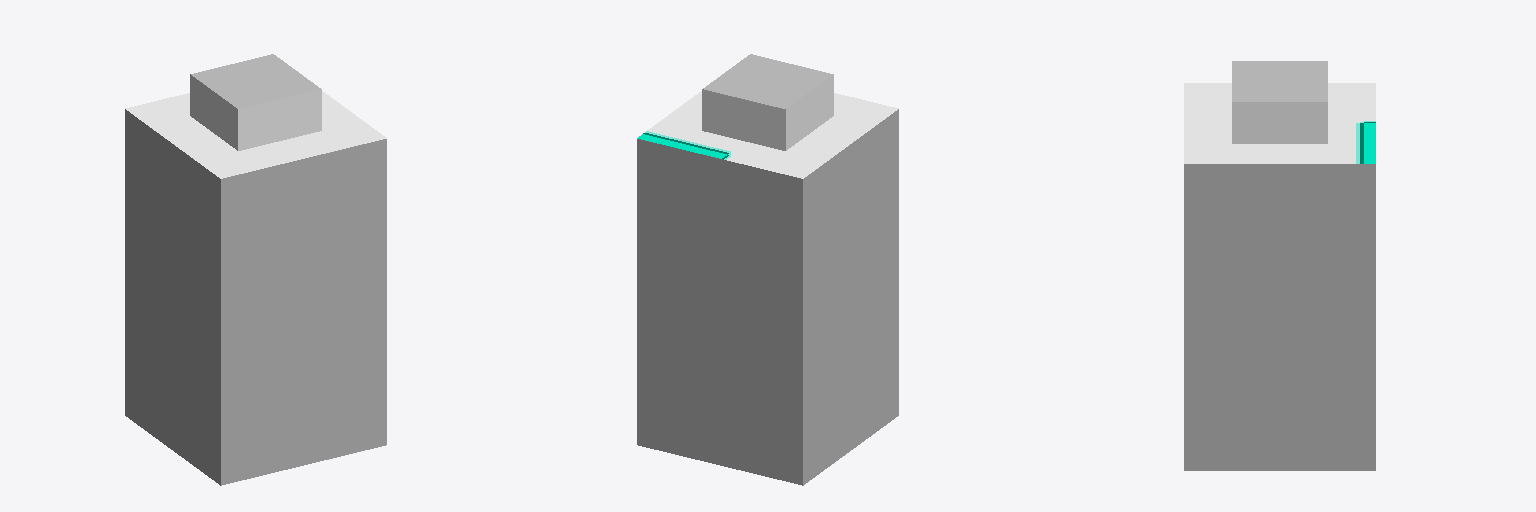
3 renders of one model, left to right at view 1: azimuth 30°, elevation 25°; view 2: azimuth 150°, elevation 25°; view 3: azimuth 270°, elevation 25°, orthographic.
Parts seen in each view (by area): view 1: Battery_Cube; view 2: Battery_Cube; view 3: Battery_Cube.
Part boxes in pixels (left/top/right/bottom): Battery_Cube: left=125, top=54, right=386, bottom=485; Battery_Cube: left=637, top=54, right=898, bottom=485; Battery_Cube: left=1184, top=61, right=1375, bottom=470.
Size of the model in its own units: 1 by 2 by 1.
Materials: 3 (1 with a texture image).